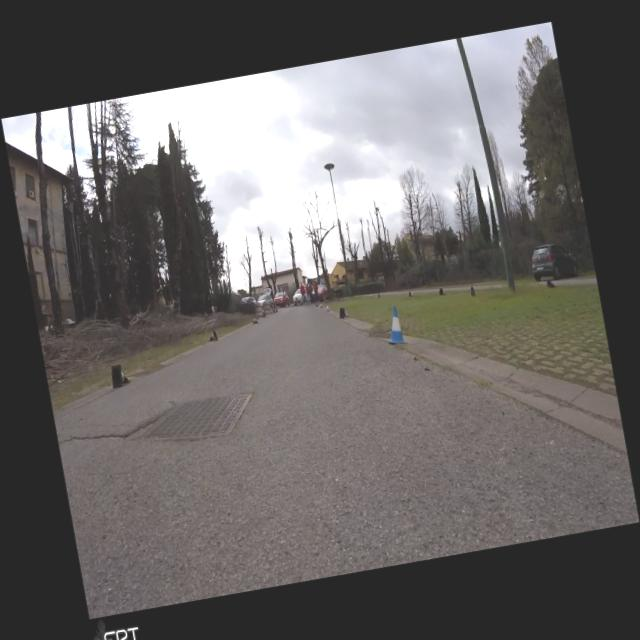blue_cone: (382, 304, 408, 346), (338, 306, 348, 319), (324, 303, 330, 312), (319, 302, 323, 308)
unknown_cone: (468, 282, 476, 296), (546, 278, 556, 288), (438, 286, 447, 296), (408, 291, 414, 297), (377, 292, 380, 298)
yellow_cone: (109, 362, 132, 388), (206, 329, 218, 342), (252, 316, 258, 324)
